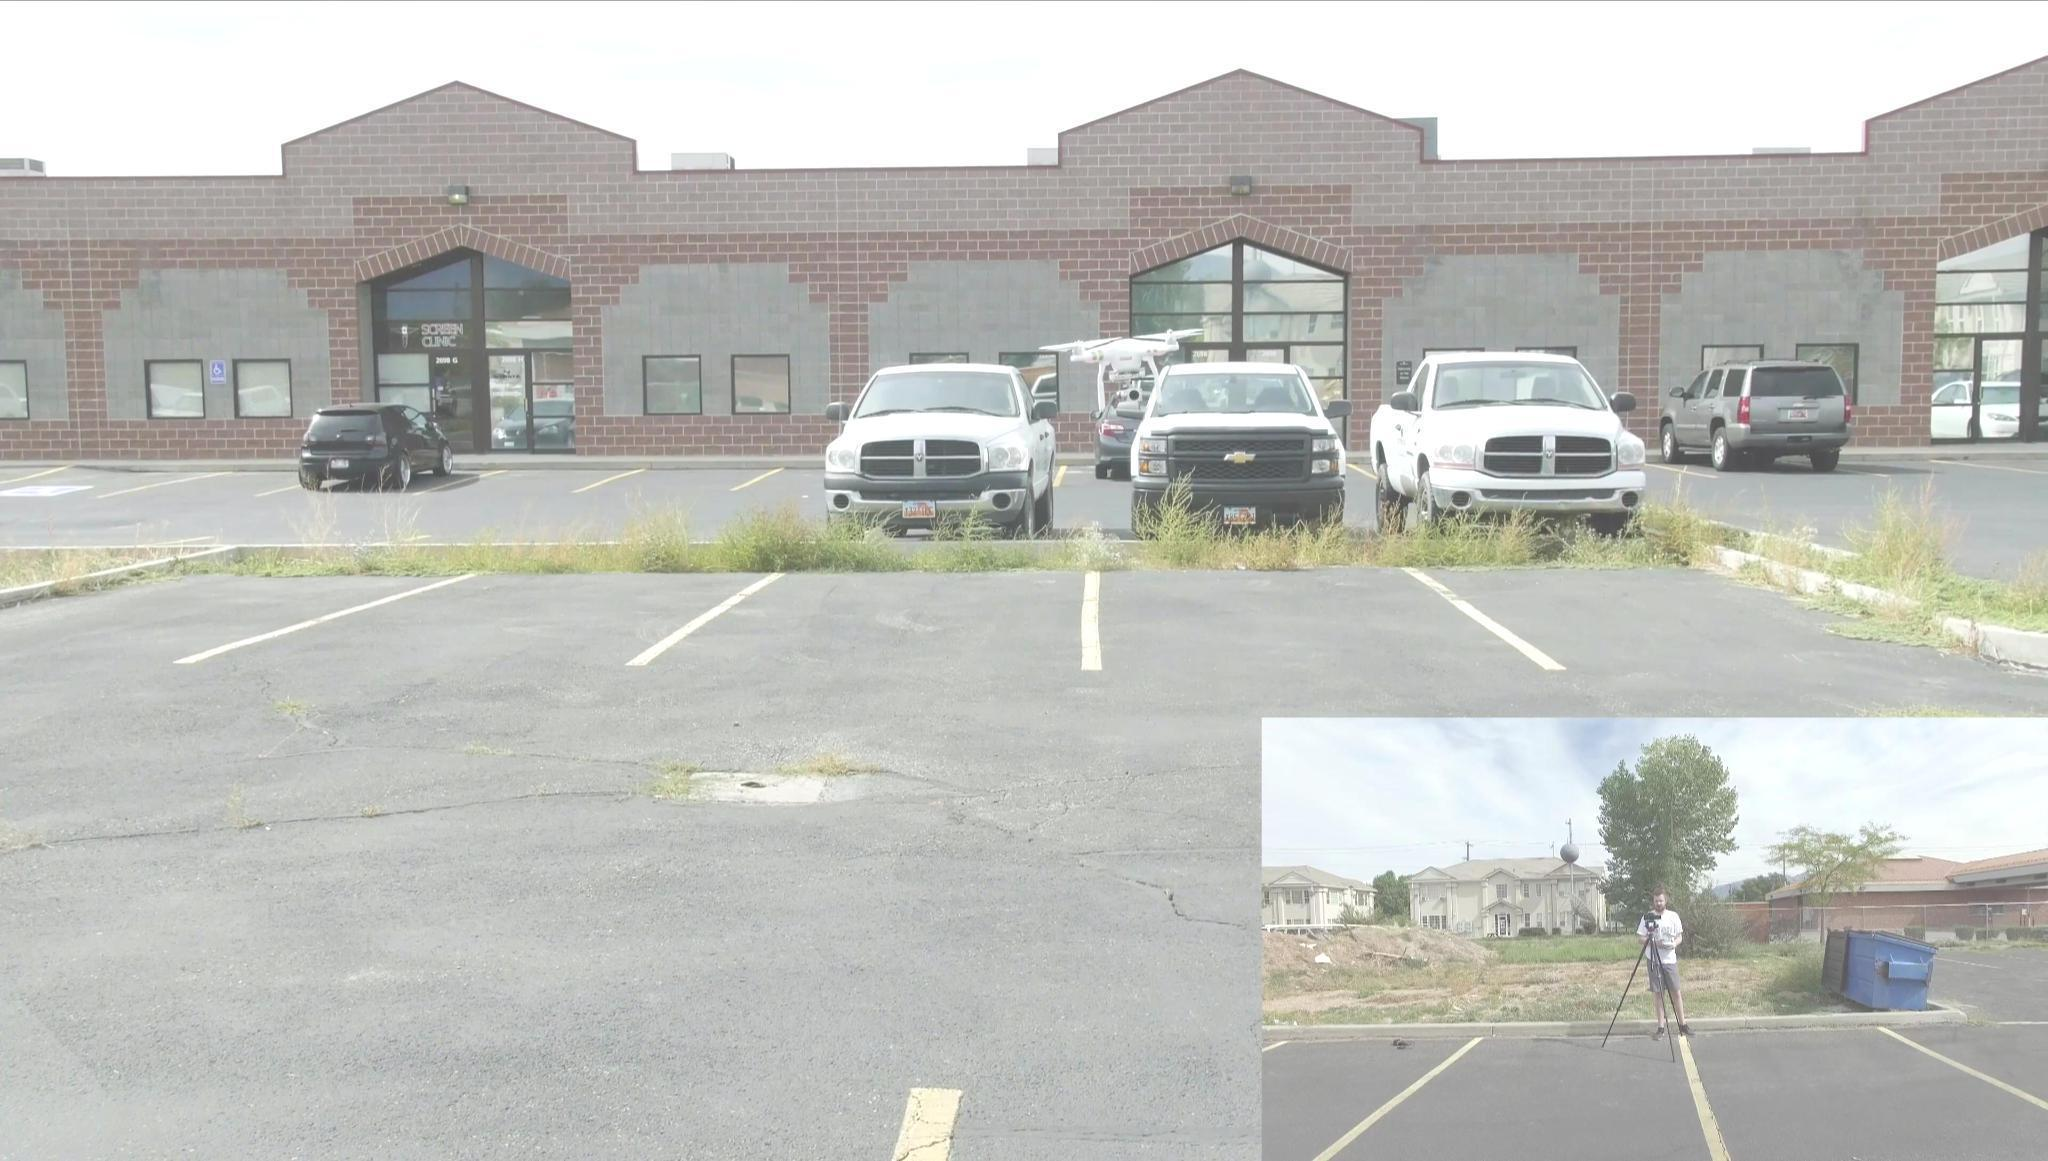drone: (1039, 328, 1205, 415)
